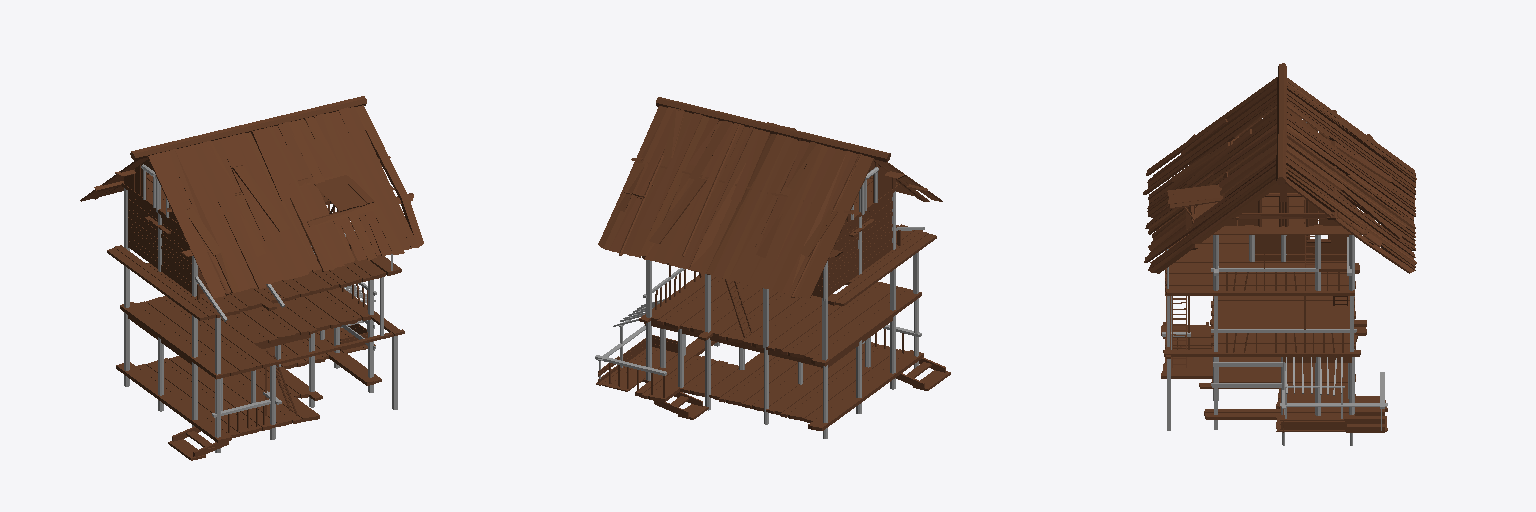
File: -LOD1_hut_003.obj
3 views of the same model, side by side, from view 1: azimuth 30°, elevation 25°; view 2: azimuth 150°, elevation 25°; view 3: azimuth 270°, elevation 25° (orthographic).
Visible parts, largest first — view 1: Roof.001_Cube.001, Cylinder.002_Cylinder.004, Cylinder.000_Cylinder.003; view 2: Cylinder.002_Cylinder.004, Roof.001_Cube.001, Cylinder.000_Cylinder.003; view 3: Cylinder.002_Cylinder.004, Roof.001_Cube.001, Cylinder.000_Cylinder.003.
Boxes of the visible parts, <box> form: Roof.001_Cube.001: <box>80,96,423,298</box>; Cylinder.002_Cylinder.004: <box>94,132,404,460</box>; Cylinder.000_Cylinder.003: <box>124,164,397,452</box>; Cylinder.002_Cylinder.004: <box>596,109,950,430</box>; Roof.001_Cube.001: <box>598,97,942,298</box>; Cylinder.000_Cylinder.003: <box>595,167,924,438</box>; Cylinder.002_Cylinder.004: <box>1150,81,1416,432</box>; Roof.001_Cube.001: <box>1143,63,1416,273</box>; Cylinder.000_Cylinder.003: <box>1162,122,1387,445</box>.
Size of the model in its own units: 16.88 by 17.33 by 16.22.